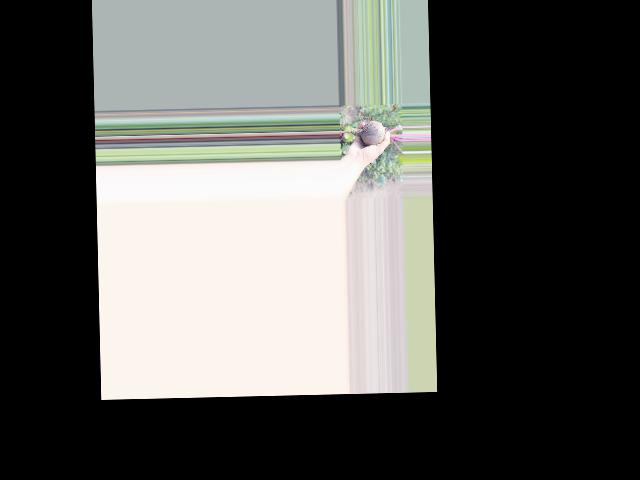beet: (338, 110, 403, 155)
